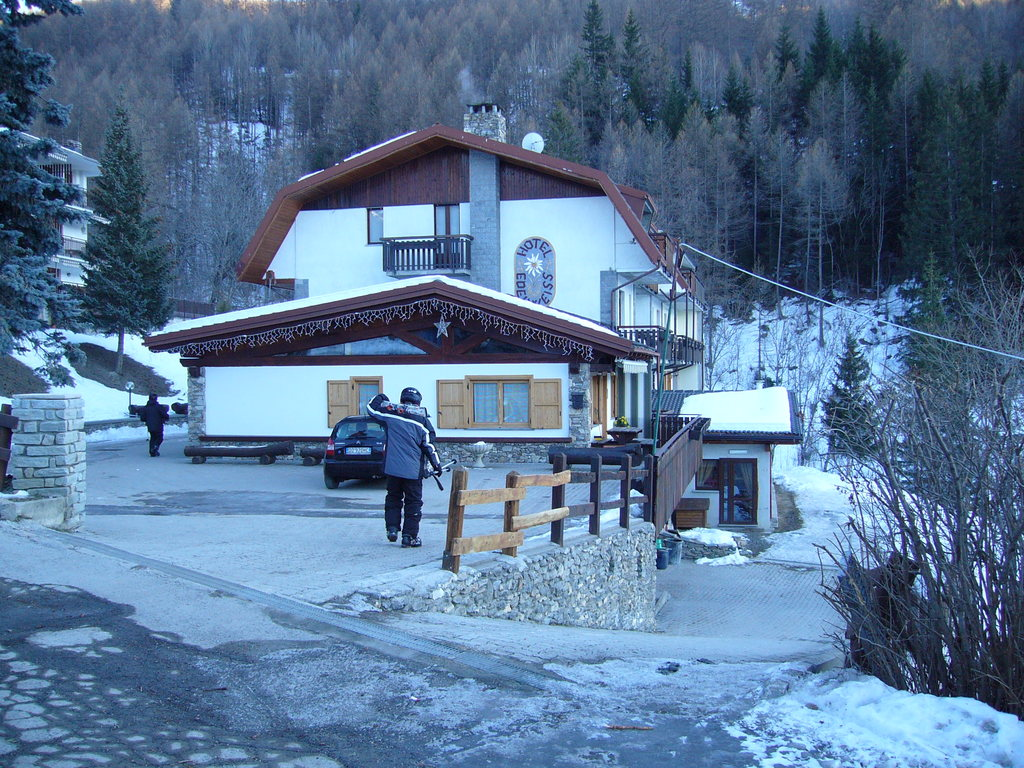Tree: (0, 0, 1024, 720)
